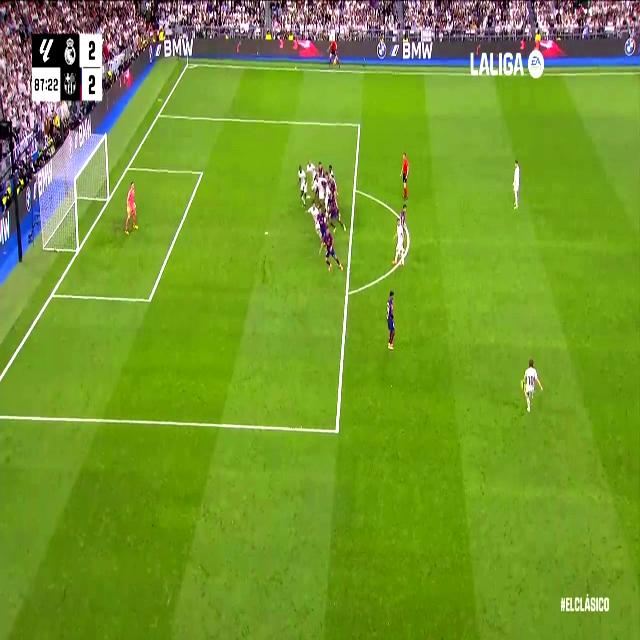bigarea_bottom_inner: (332, 414, 342, 443)
bigarea_top_inner: (356, 116, 362, 132)
bigarea_top_outter: (156, 108, 162, 120)
bottom_arc_area_intersection: (343, 287, 351, 301)
corner: (184, 60, 192, 70)
smallarea_bottom_outter: (48, 282, 56, 305)
smallarea_top_inner: (197, 164, 206, 182)
smallarea_top_outter: (125, 158, 131, 174)
